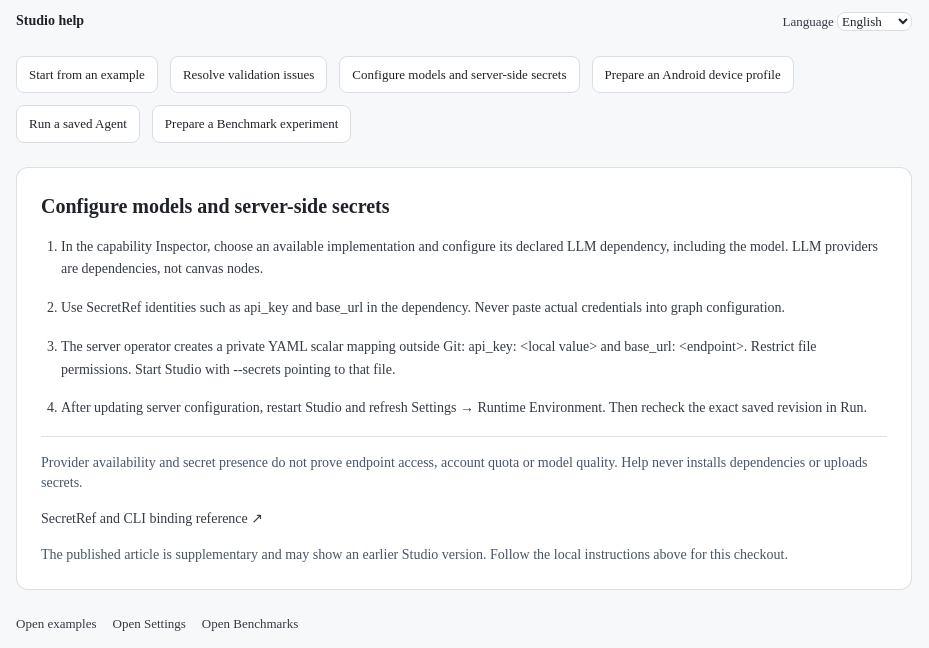
Test: task-oriented bilingual Help › preserves topic model through language changes without runtime requests
Expected: the heading "Configure models and server-side secrets" is shown, [41, 194, 390, 216]
Step 1. Select "简体中文" in the dropdown named "Help language" → point(874, 22), box [837, 12, 912, 31]
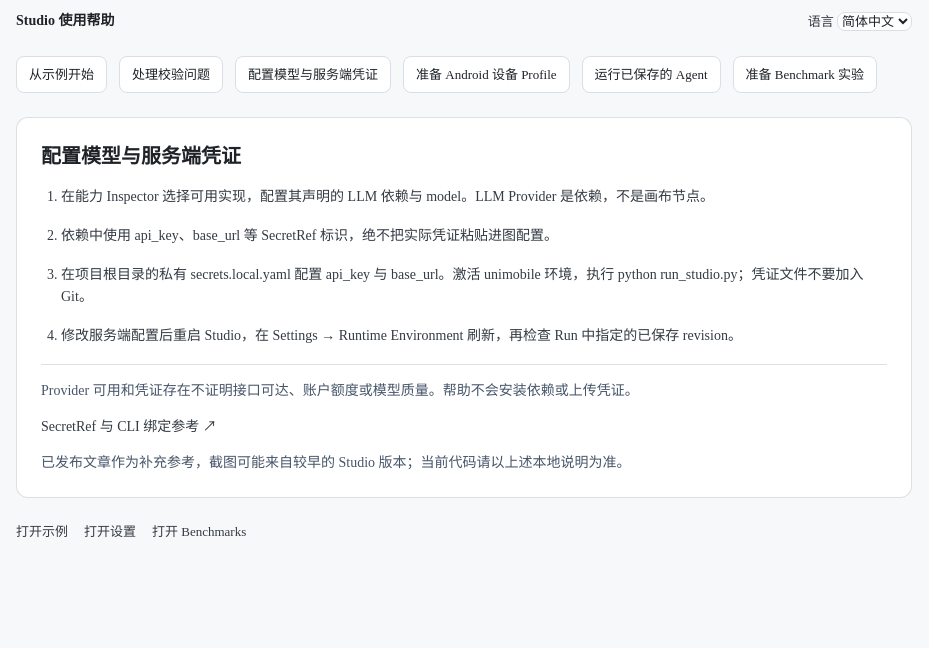
Expected: the number of list items is 4, [61, 189, 714, 204]; [61, 228, 558, 243]; [61, 264, 887, 309]; [61, 328, 742, 343]
Expected: the heading "配置模型与服务端凭证" is shown, [41, 145, 241, 167]
